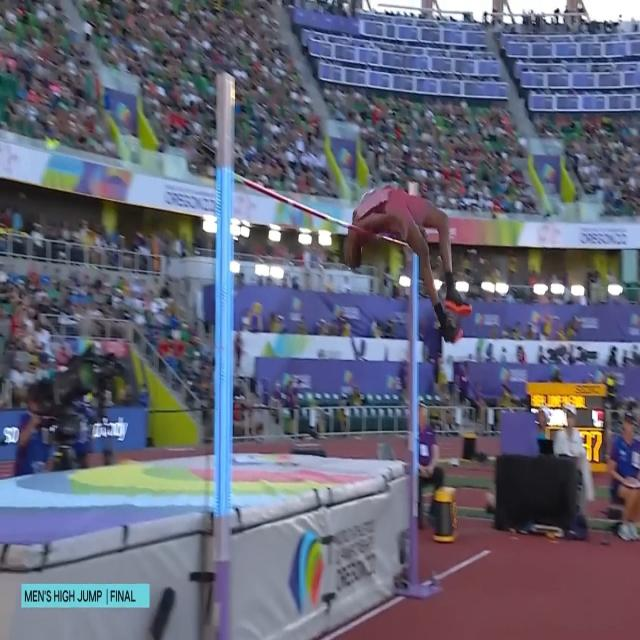jump: (343, 182, 473, 348)
